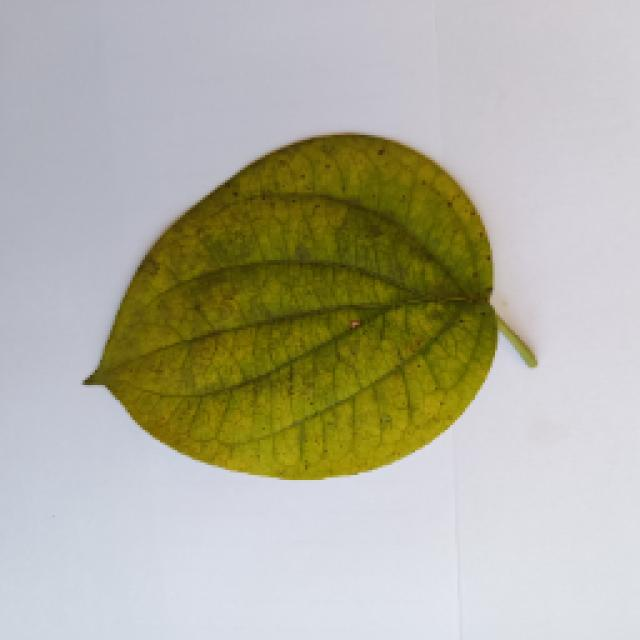slow-decline: (75, 123, 543, 485)
